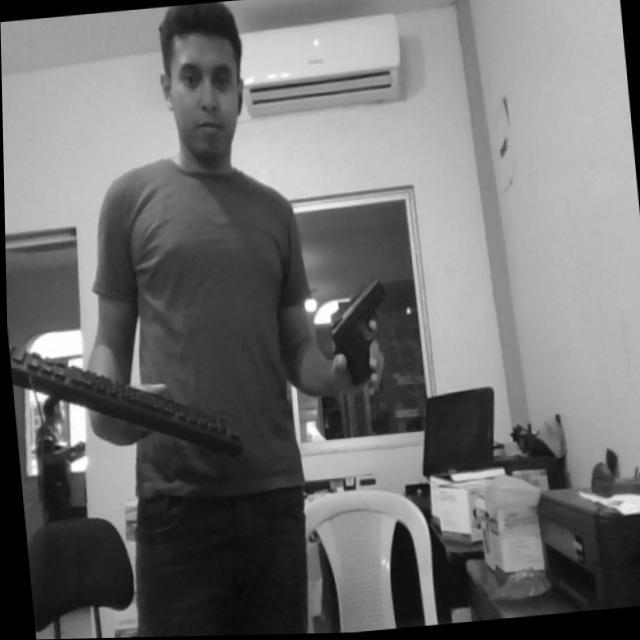weapon: (320, 278, 397, 398)
